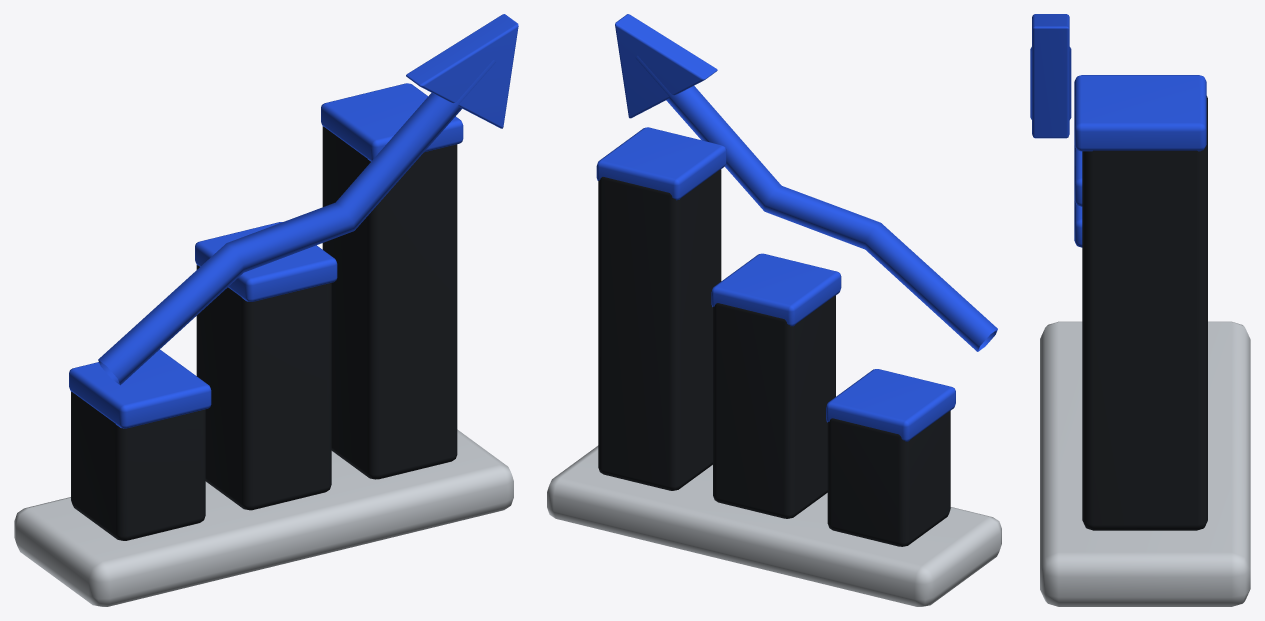
File: chart.glb
3 views of the same model, side by side, from view 1: azimuth 30°, elevation 25°; view 2: azimuth 150°, elevation 25°; view 3: azimuth 270°, elevation 25° (orthographic). The views are drawn at different scales.
Visible parts, largest first — view 1: SM_Bar2, SM_ChartBase, SM_Bar1, SM_ModelGeometry_LiftCobalt, SM_Bar0, SM_BarCap0, SM_BarCap2, SM_BarCap1; view 2: SM_Bar2, SM_ChartBase, SM_Bar1, SM_ModelGeometry_LiftCobalt, SM_Bar0, SM_BarCap2, SM_BarCap1, SM_BarCap0; view 3: SM_Bar2, SM_ChartBase, SM_BarCap2, SM_ModelGeometry_LiftCobalt, SM_BarCap1, SM_BarCap0.
Boxes of the visible parts, box(x1,y1,x2,y2) form: SM_Bar2: box(322, 126, 457, 479); SM_ChartBase: box(14, 429, 513, 606); SM_Bar1: box(196, 265, 331, 510); SM_ModelGeometry_LiftCobalt: box(98, 14, 518, 385); SM_Bar0: box(71, 391, 205, 540); SM_BarCap0: box(69, 349, 211, 428); SM_BarCap2: box(321, 83, 463, 161); SM_BarCap1: box(195, 222, 337, 301); SM_Bar2: box(598, 169, 721, 490); SM_ChartBase: box(547, 445, 1001, 606); SM_Bar1: box(713, 295, 835, 518); SM_ModelGeometry_LiftCobalt: box(615, 14, 997, 351); SM_Bar0: box(827, 411, 950, 546); SM_BarCap2: box(596, 127, 726, 200); SM_BarCap1: box(711, 253, 841, 326); SM_BarCap0: box(826, 369, 955, 441); SM_Bar2: box(1082, 96, 1207, 530); SM_ChartBase: box(1040, 321, 1250, 606); SM_BarCap2: box(1074, 75, 1206, 151); SM_ModelGeometry_LiftCobalt: box(1030, 14, 1071, 138); SM_BarCap1: box(1074, 145, 1082, 206); SM_BarCap0: box(1074, 200, 1082, 247).
Size of the model in its own units: 1.8 by 2 by 0.6824.
